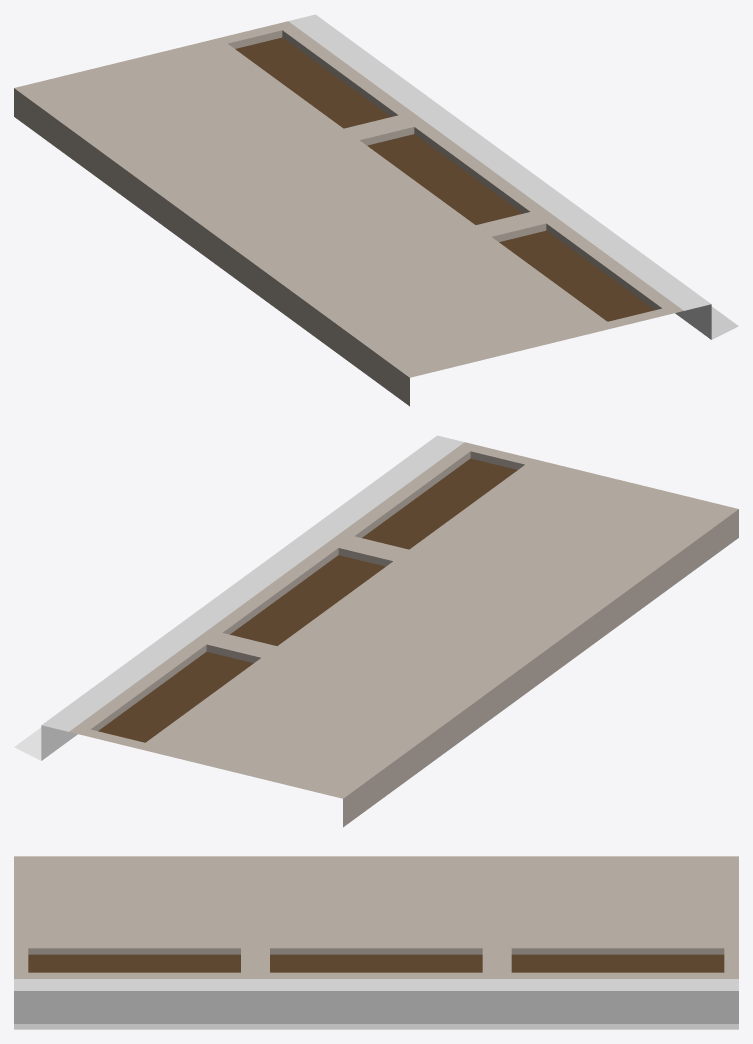
File: Calçada_Canteiro.fbx
3 views of the same model, one above another, from view 1: azimuth 30°, elevation 25°; view 2: azimuth 150°, elevation 25°; view 3: azimuth 270°, elevation 25° (orthographic). The views are drawn at different scales.
Visible parts, largest first — view 1: Calçada_Canteiro; view 2: Calçada_Canteiro; view 3: Calçada_Canteiro.
Part boxes in pixels (x1,y1,x2,y2): Calçada_Canteiro: (14,14,738,406); Calçada_Canteiro: (14,435,738,827); Calçada_Canteiro: (14,856,738,1029).
Size of the model in its own units: 240 by 25 by 500.
